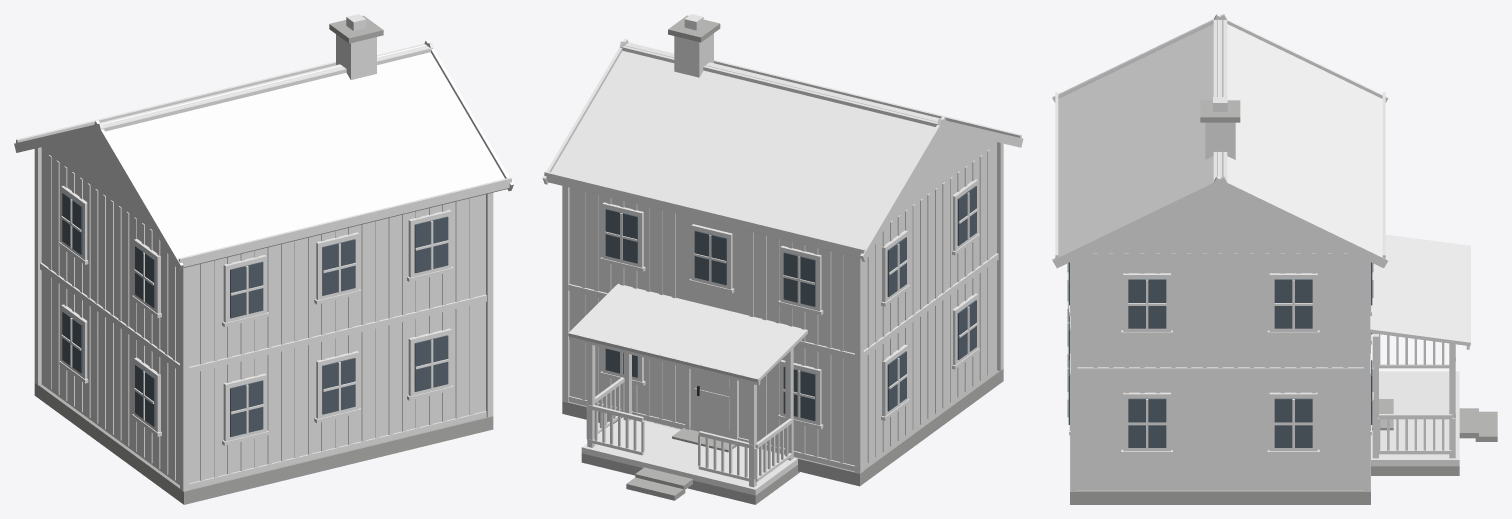
File: house-west-teal.glb
3 views of the same model, side by side, from view 1: azimuth 30°, elevation 25°; view 2: azimuth 150°, elevation 25°; view 3: azimuth 270°, elevation 25° (orthographic). The views are drawn at different scales.
Visible parts, largest first — view 1: Roof_Rear, Wall_S, Wall_W, Foundation, FasciaEave_-1, RidgeCap, Gable_W, Belt_S, CornerTrim_-1-1, Skirt_S, CornerTrim_-11, CornerTrim_1-1 (+49 smaller); view 2: Roof_Front, Wall_N, Wall_W, PorchRoof, PorchDeck, Foundation, FasciaEave_1, RidgeCap, Gable_W, CornerTrim_-11, CornerTrim_11, PorchSkirt (+54 smaller); view 3: Wall_E, Roof_Front, Roof_Rear, PorchRoof, Gable_E, PorchDeck, Foundation, Belt_E, Barge_F_1, Barge_R_1, CornerTrim_1-1, CornerTrim_11 (+39 smaller).
Boxes of the visible parts, x1,y1,x2,y2 form: Roof_Rear: (102, 44, 508, 267); Wall_S: (189, 194, 485, 483); Wall_W: (41, 147, 189, 484); Foundation: (34, 383, 493, 504); FasciaEave_-1: (178, 177, 511, 267); RidgeCap: (100, 43, 433, 131); Gable_W: (42, 134, 152, 227); Belt_S: (189, 294, 486, 373); CornerTrim_-1-1: (180, 267, 189, 491); Skirt_S: (189, 411, 486, 489); CornerTrim_-11: (34, 147, 41, 384); CornerTrim_1-1: (486, 192, 493, 417); Roof_Front: (548, 43, 938, 258); Wall_N: (569, 187, 854, 465); Wall_W: (853, 142, 996, 467); PorchRoof: (568, 283, 807, 382); PorchDeck: (581, 417, 797, 495); Foundation: (562, 369, 1003, 486); FasciaEave_1: (544, 171, 865, 257); RidgeCap: (620, 42, 940, 126); Gable_W: (890, 129, 996, 219); CornerTrim_-11: (855, 257, 863, 473); CornerTrim_11: (562, 186, 569, 402); PorchSkirt: (581, 453, 799, 504); Wall_E: (1077, 251, 1363, 489); Roof_Front: (1217, 19, 1382, 256); Roof_Rear: (1058, 19, 1223, 255); PorchRoof: (1370, 234, 1470, 345); Gable_E: (1094, 189, 1346, 250); PorchDeck: (1371, 371, 1459, 466); Foundation: (1070, 435, 1370, 504); Belt_E: (1077, 367, 1363, 374); Barge_F_1: (1212, 176, 1388, 268); Barge_R_1: (1052, 176, 1227, 268); CornerTrim_1-1: (1070, 259, 1077, 491); CornerTrim_11: (1363, 259, 1370, 491).
Bounding box in the file's own units: 7.93 × 8.52 × 9.12.
